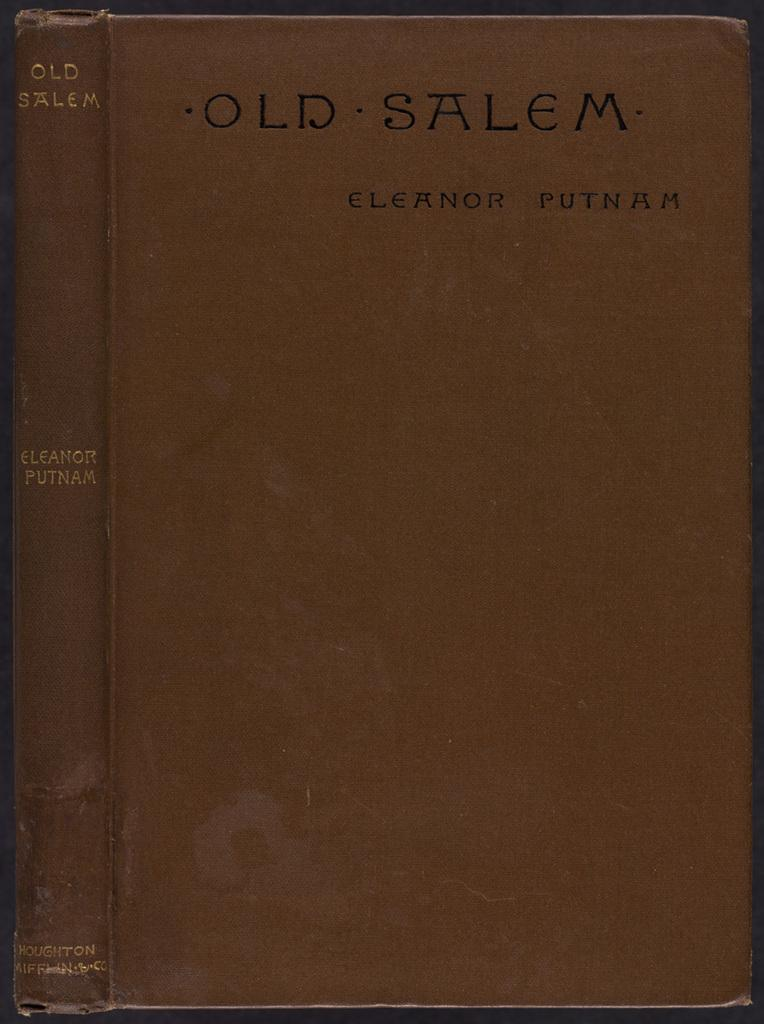book: (5, 0, 736, 1015)
